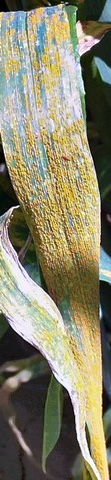Leaf Rust: (5, 32, 111, 386)
